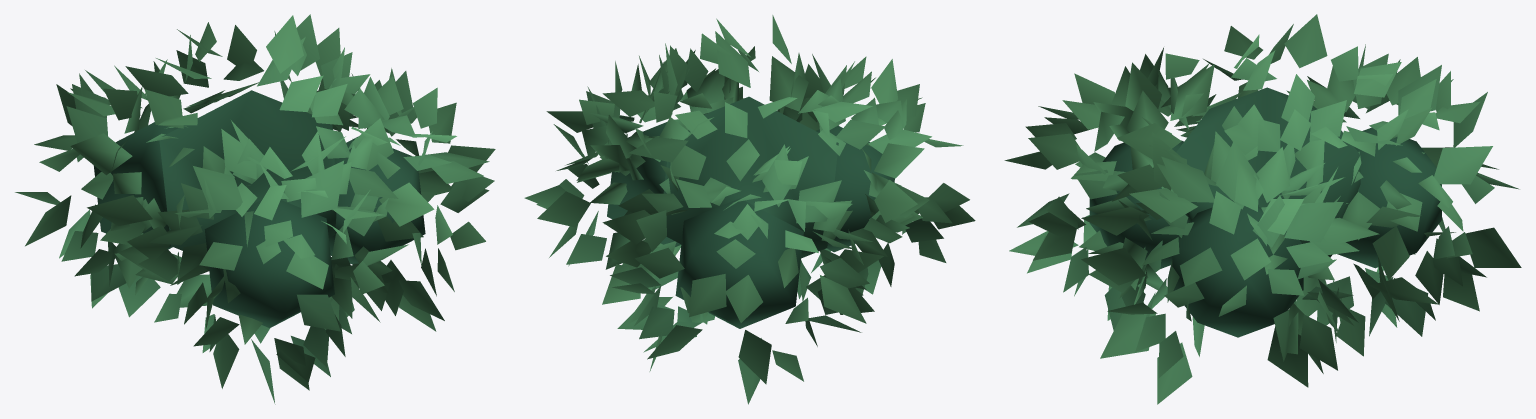
The model's file is leafy-bush.glb.
3 views of the same model, side by side, from view 1: azimuth 30°, elevation 25°; view 2: azimuth 150°, elevation 25°; view 3: azimuth 270°, elevation 25° (orthographic). The views are drawn at different scales.
Parts seen in each view (by area): view 1: leafy-bush; view 2: leafy-bush; view 3: leafy-bush.
Part boxes in pixels (<box>): leafy-bush: <box>15,14,495,404</box>; leafy-bush: <box>524,15,975,404</box>; leafy-bush: <box>1004,14,1521,404</box>.
Size of the model in its own units: 0.573 by 0.45 by 0.6126.
